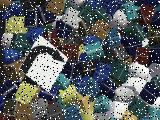Right: (18, 34, 68, 92)
